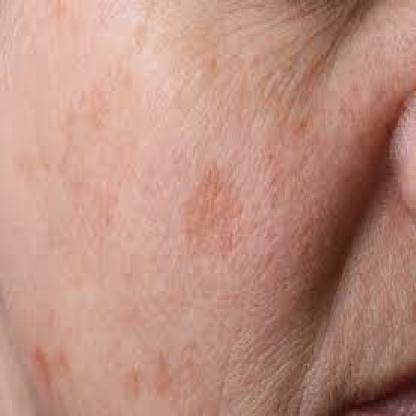darkspot: (182, 166, 230, 250), (113, 355, 178, 402), (26, 321, 68, 384), (205, 47, 223, 72)
wrinkle: (235, 7, 371, 109), (236, 302, 346, 410)
